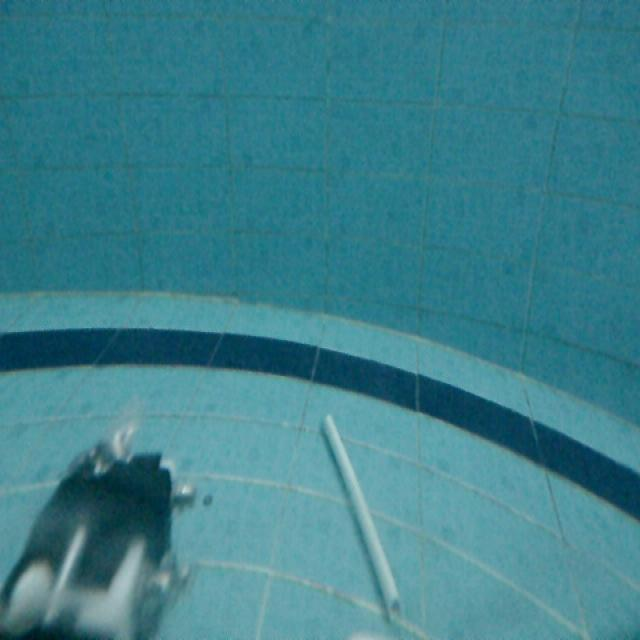Cube: (318, 411, 404, 619)
